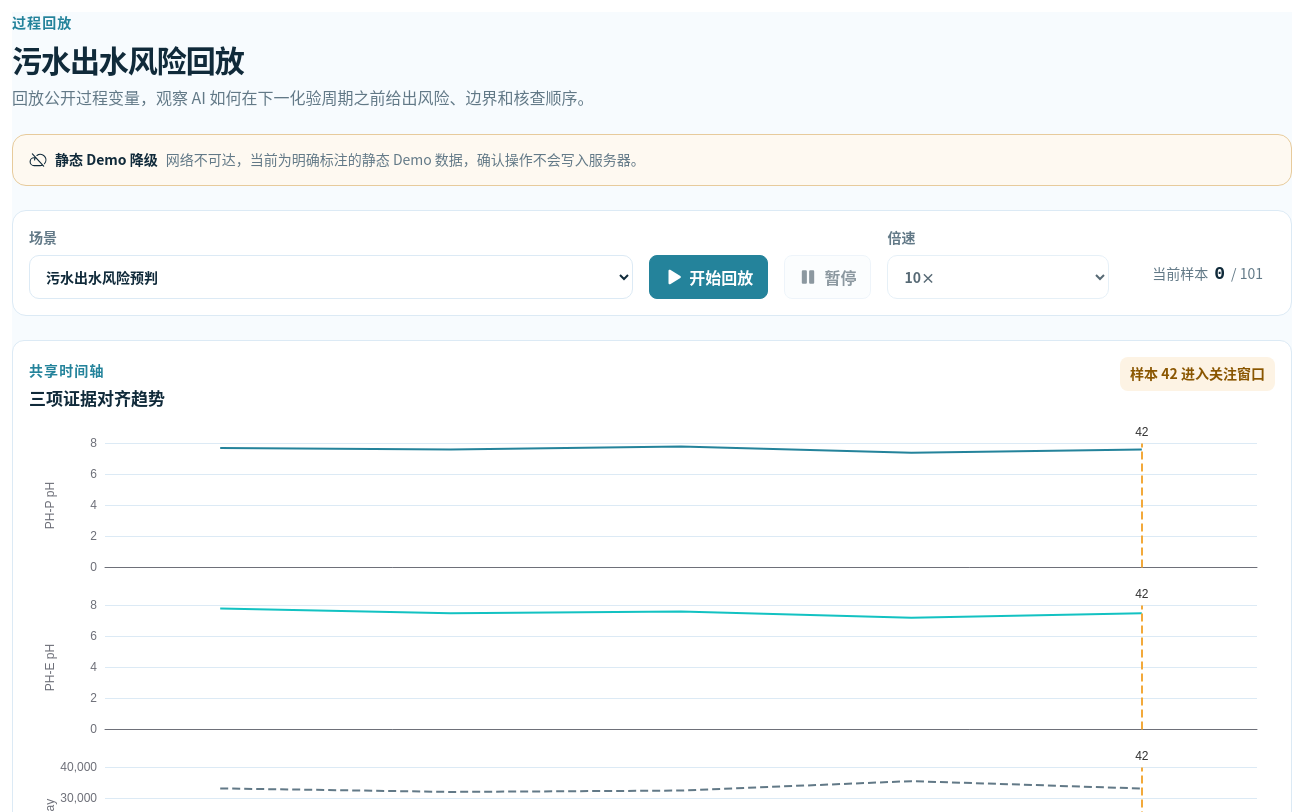
Scenario: 回放控制 › API 离线时静态回放仍会推进，并明确标识静态事件
Click the button "开始回放" at (709, 277), box [649, 255, 768, 299]
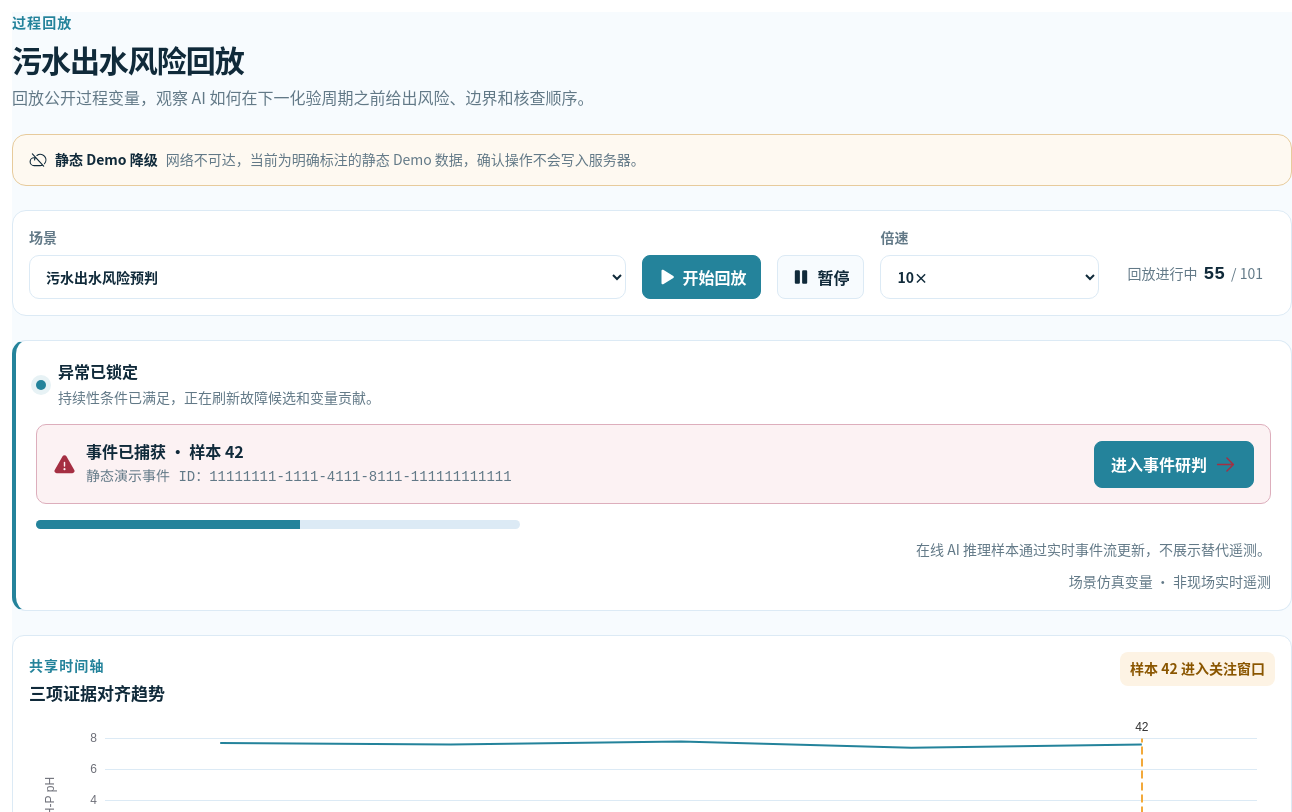
expect the text "静态演示事件 ID：11111111-1111-4111-8111-111111111111" is shown: met, box [86, 467, 512, 489]
